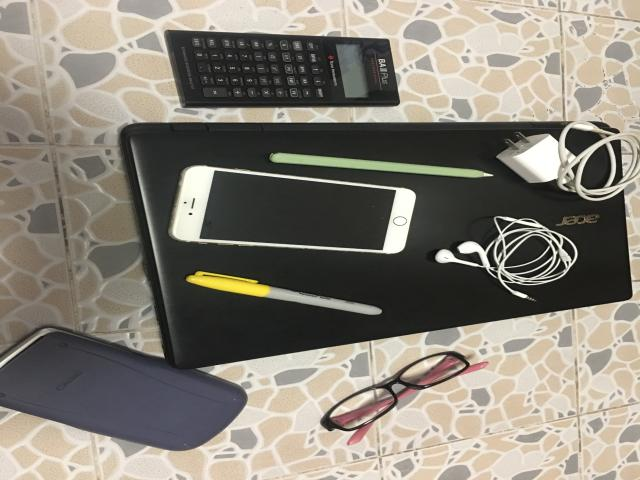Glasses: (322, 352, 488, 445)
Mobile phone: (168, 165, 417, 254)
Pen: (187, 271, 382, 315)
wire: (435, 217, 578, 301), (497, 121, 640, 202)
